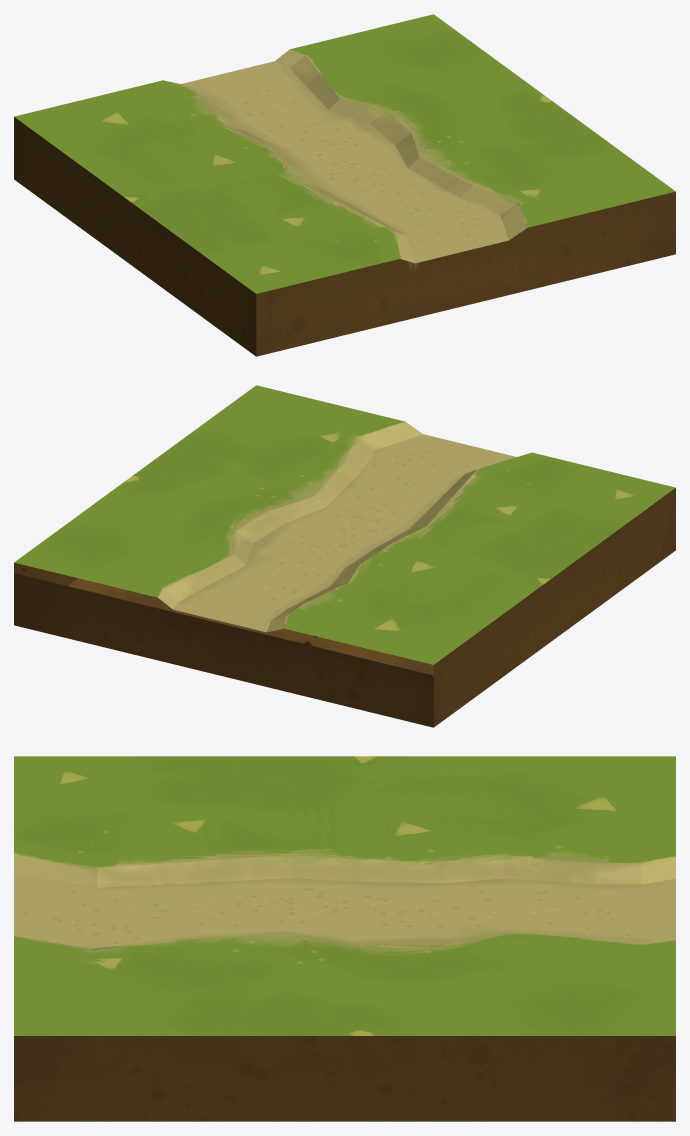
The model's file is path.fbx.
3 views of the same model, one above another, from view 1: azimuth 30°, elevation 25°; view 2: azimuth 150°, elevation 25°; view 3: azimuth 270°, elevation 25° (orthographic). The views are drawn at different scales.
Parts seen in each view (by area): view 1: path; view 2: path; view 3: path.
Part boxes in pixels (box(x1,y1,x2,y2)): path: box(14, 14, 675, 356); path: box(14, 385, 675, 727); path: box(14, 756, 675, 1121).
Size of the model in its own units: 200 by 28.57 by 200.
